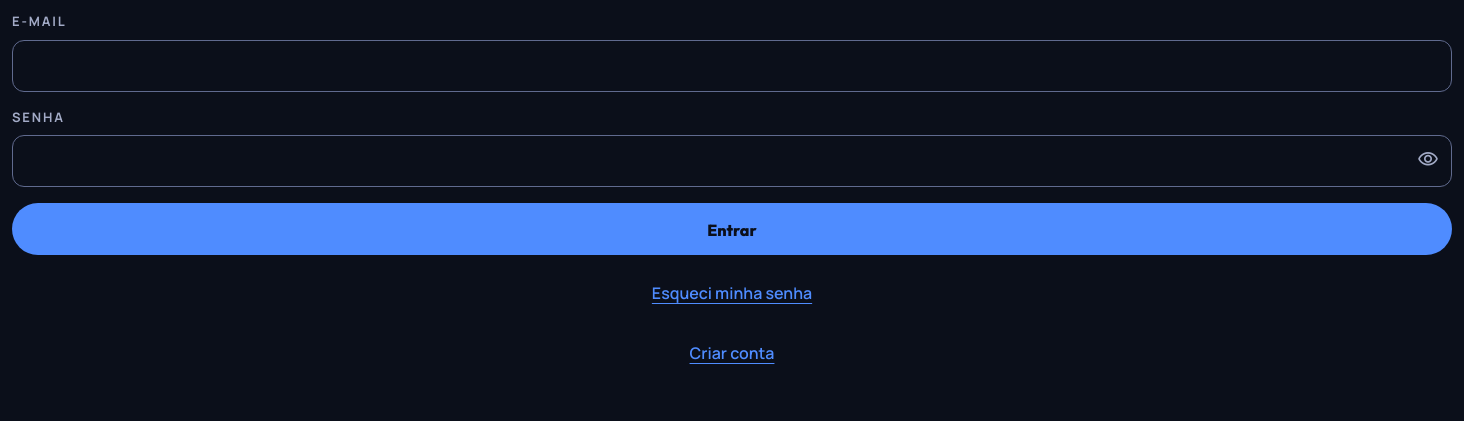
Test: LoginForm — envio › 6ª tentativa: 429 → "Muitas tentativas. Aguarde um pouco e tente de novo." (CA-39)
This screenshot has width=1464, height=421.
Type "ana@exemplo.com" into the field labelled "E-mail" at {"x": 732, "y": 66}, box [12,40,1452,92]
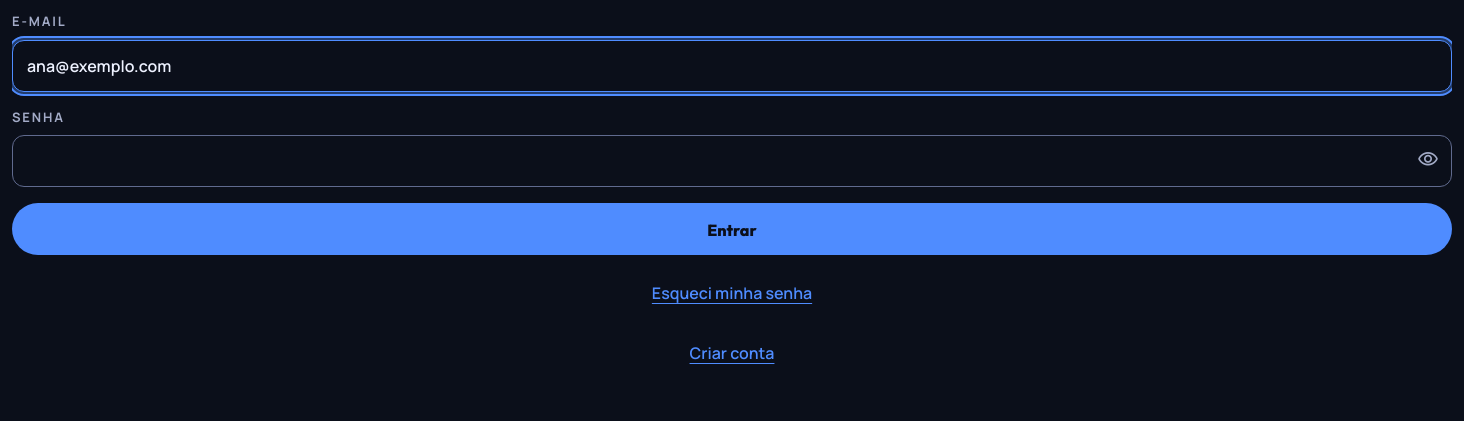
Type "qualquer-coisa" into the password field labelled "Senha" at {"x": 732, "y": 161}, box [12,135,1452,187]
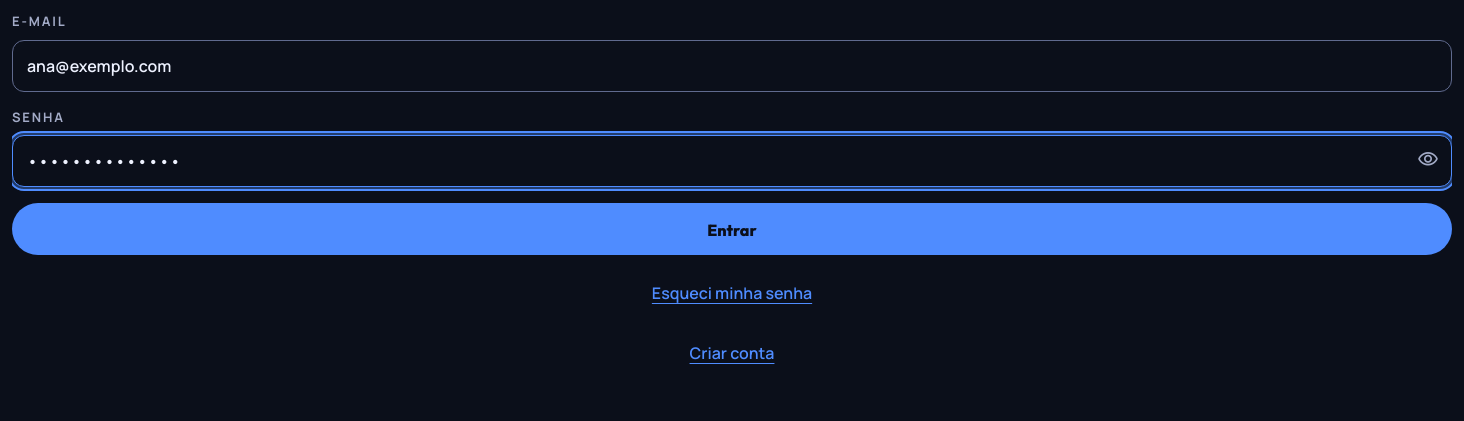
Click the button "Entrar" at {"x": 732, "y": 229}, box [12,203,1452,255]
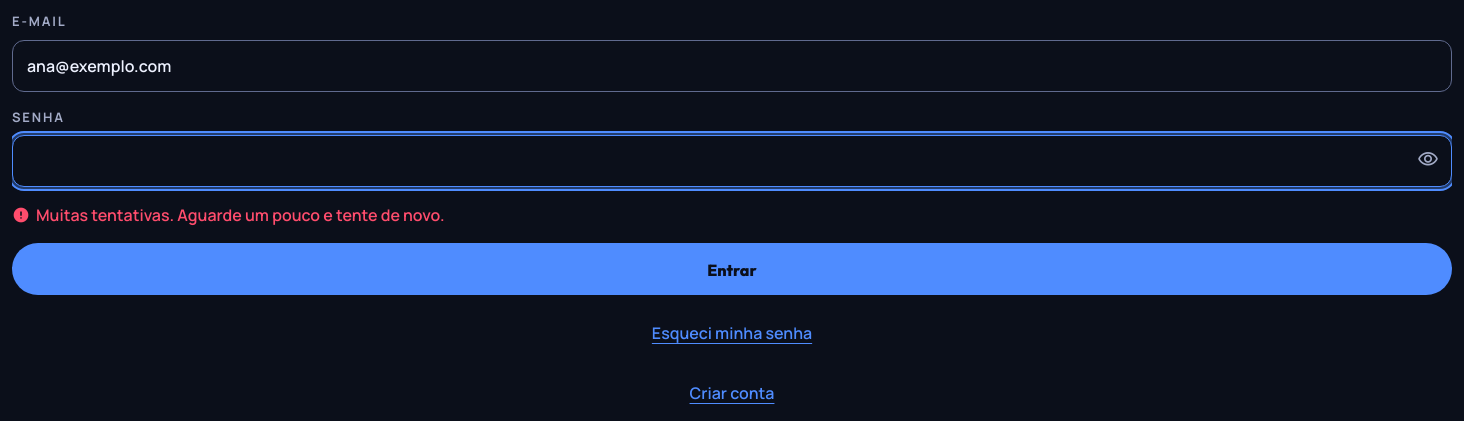
Expected: the text "Muitas tentativas. Aguarde um pouco e tente de novo." is shown, [12,204,445,226]
